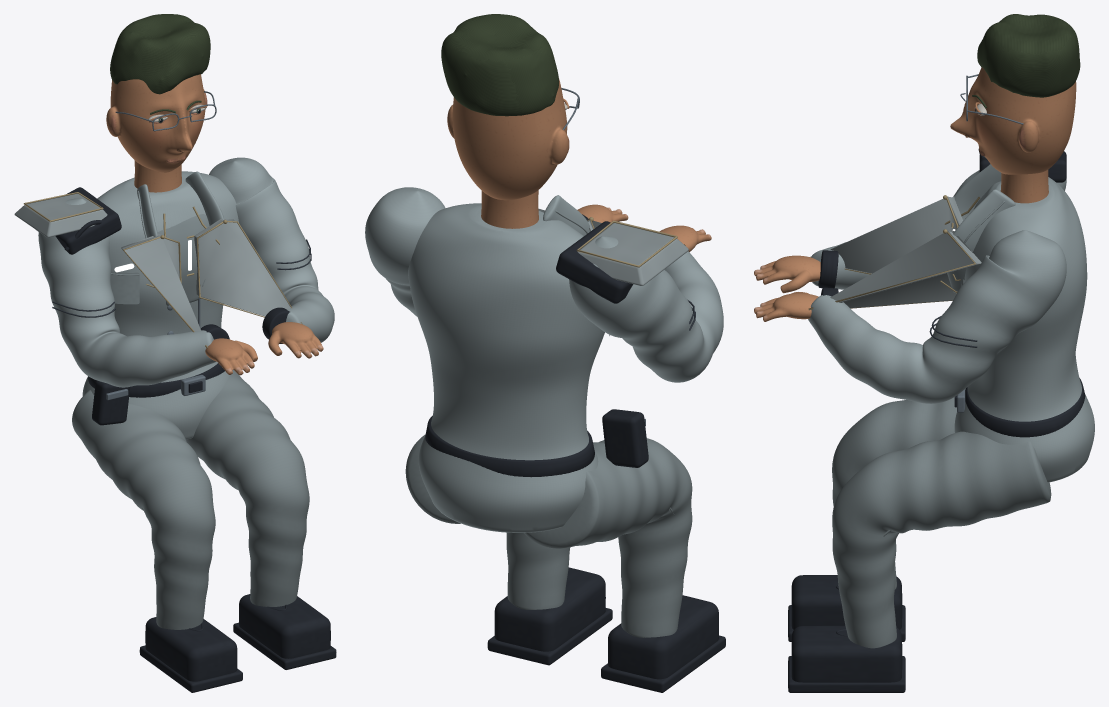
The model's file is analyst.gltf.
The picture shows the model from 3 angles, left to right: view 1: azimuth 30°, elevation 25°; view 2: azimuth 150°, elevation 25°; view 3: azimuth 270°, elevation 25°; orthographic projection. The views are drawn at different scales.
Parts seen in each view (by area): view 1: council-asset-4-analyst_Fabric, council-asset-4-analyst_Leather, Oni Metal tailoring, sculpted-head_Skin, sculpted-head_Hair, council-asset-4-analyst_Skin, council-asset-4-analyst_Metal; view 2: council-asset-4-analyst_Fabric, council-asset-4-analyst_Leather, sculpted-head_Hair, sculpted-head_Skin, Oni Metal tailoring, council-asset-4-analyst_Skin; view 3: council-asset-4-analyst_Fabric, council-asset-4-analyst_Leather, Oni Metal tailoring, sculpted-head_Skin, sculpted-head_Hair, council-asset-4-analyst_Skin.
Boxes of the visible parts, x1,y1,x2,y2 form: council-asset-4-analyst_Fabric: (38, 157, 334, 629); council-asset-4-analyst_Leather: (36, 187, 336, 692); Oni Metal tailoring: (14, 192, 302, 348); sculpted-head_Skin: (106, 74, 207, 172); sculpted-head_Hair: (110, 14, 210, 94); council-asset-4-analyst_Skin: (134, 160, 323, 375); council-asset-4-analyst_Metal: (106, 297, 205, 400); council-asset-4-analyst_Fabric: (365, 187, 723, 637); council-asset-4-analyst_Leather: (425, 214, 725, 692); sculpted-head_Hair: (441, 14, 558, 116); sculpted-head_Skin: (447, 79, 569, 200); Oni Metal tailoring: (538, 208, 688, 285); council-asset-4-analyst_Skin: (481, 190, 711, 251); council-asset-4-analyst_Fabric: (808, 164, 1094, 648); council-asset-4-analyst_Leather: (788, 149, 1085, 692); Oni Metal tailoring: (808, 157, 986, 310); sculpted-head_Skin: (950, 67, 1076, 174); sculpted-head_Hair: (977, 14, 1080, 97); council-asset-4-analyst_Skin: (754, 169, 1048, 321).
Size of what is drawn, in the model's own units: 0.9845 by 2.08 by 1.02.
Materials: 7 (5 with a texture image).
